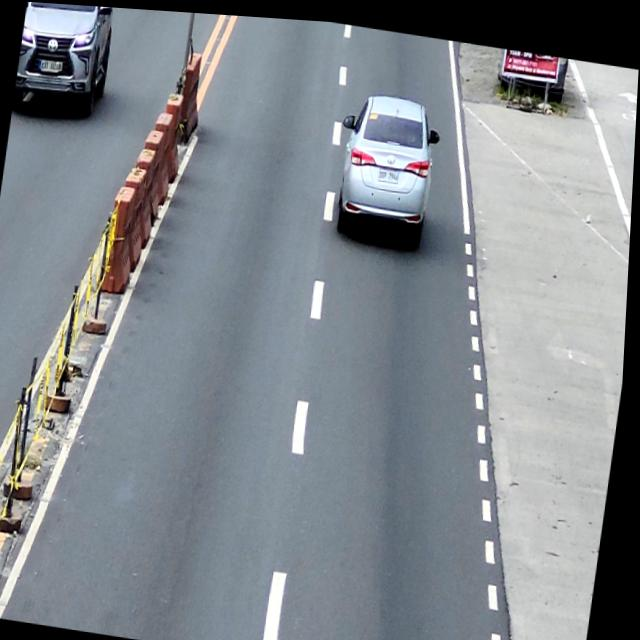Car: (329, 85, 445, 245), (12, 1, 118, 123)
License-Plate: (378, 162, 401, 178), (40, 57, 61, 73)
